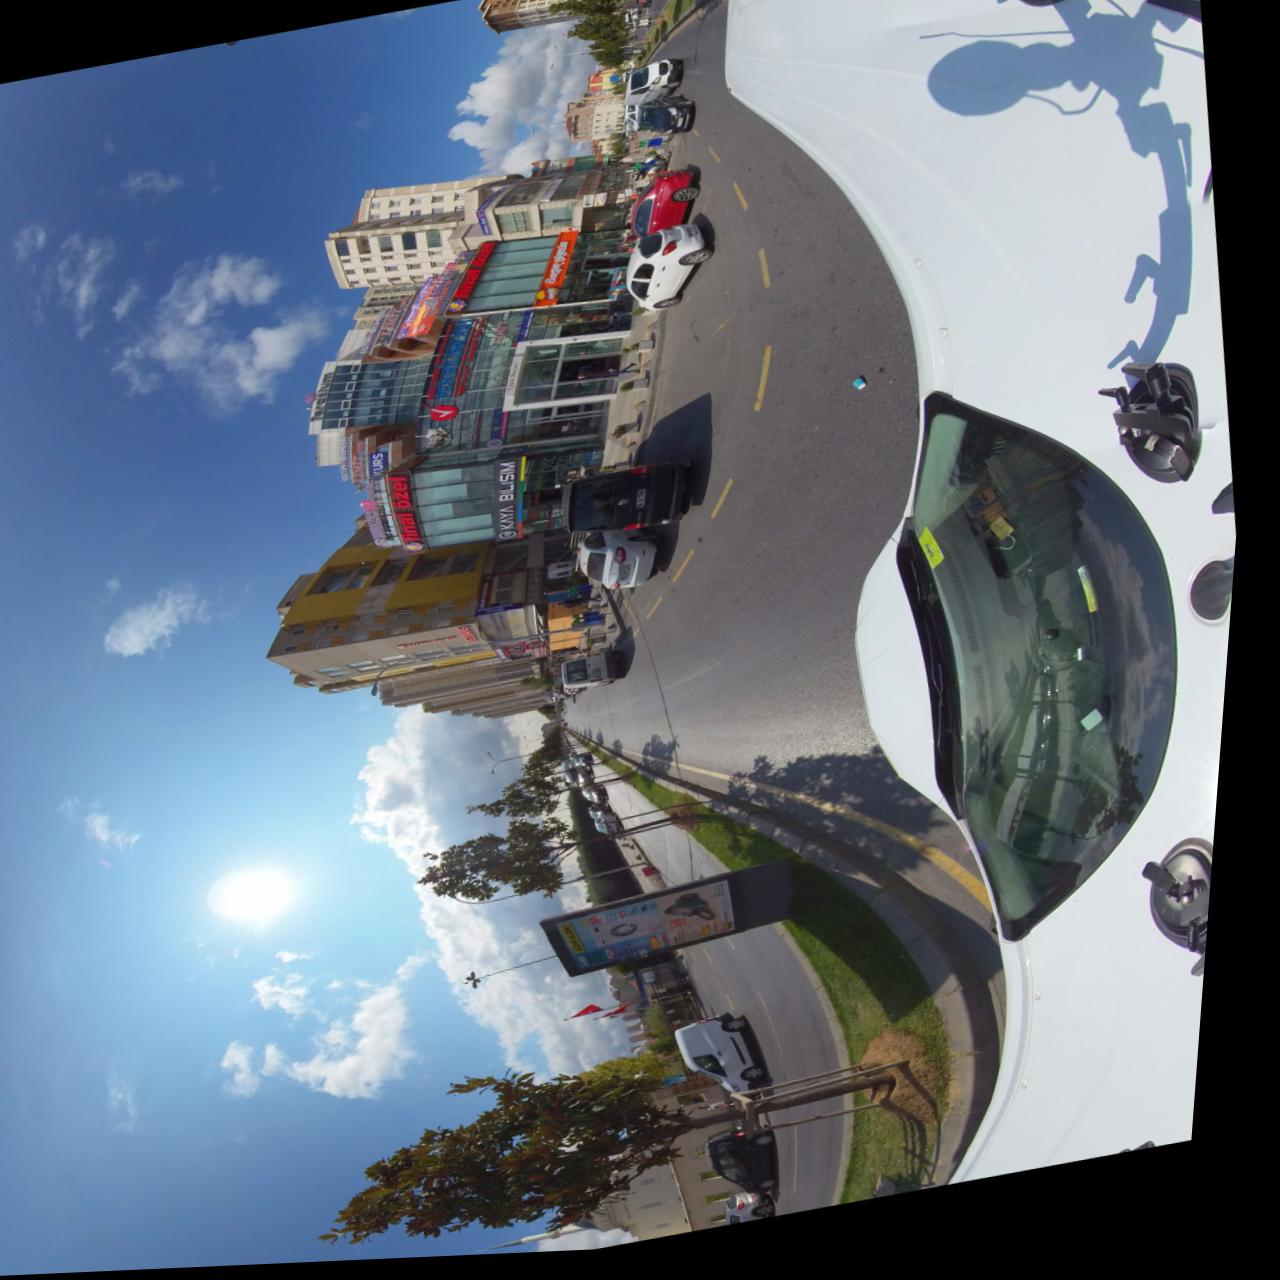SignStore: (449, 245, 501, 314), (393, 476, 434, 556), (539, 238, 579, 305), (502, 462, 530, 544), (481, 190, 511, 213), (489, 583, 503, 612), (478, 215, 495, 238), (543, 652, 554, 662)
